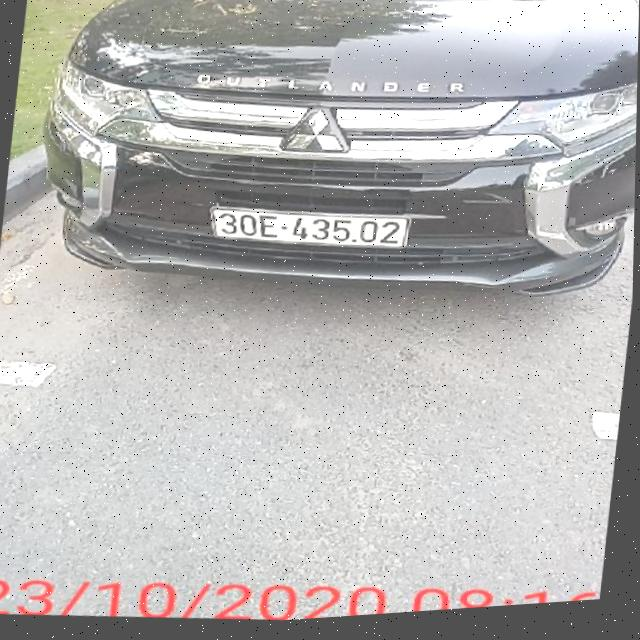car: (9, 0, 640, 341)
plate: (199, 188, 411, 268)
